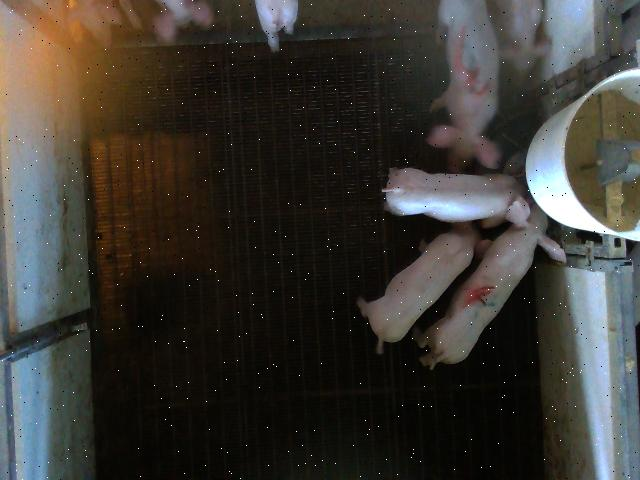pig-3: (426, 2, 501, 172)
pig-4: (412, 196, 566, 369)
